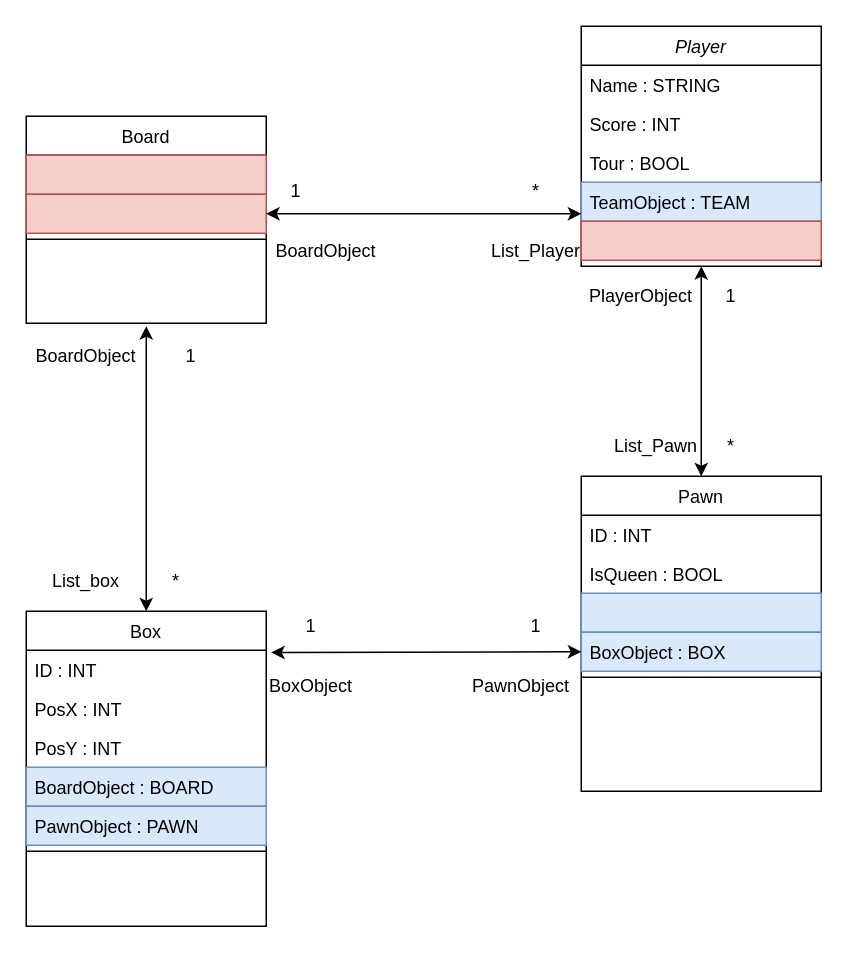
Some shapes in this 848 by 953 pixel diagram are drawn without their labels. Here are the shapes that lost their labels. From the top down, the centre of each, then its label:
At point (145, 174): "List_Player : PLAYER[*]".
At point (145, 213): "List_Box : BOX[*]".
At point (700, 240): "List_Pawn : PAWN[*]".
At point (700, 612): "PlayerObject : PLAYER".
